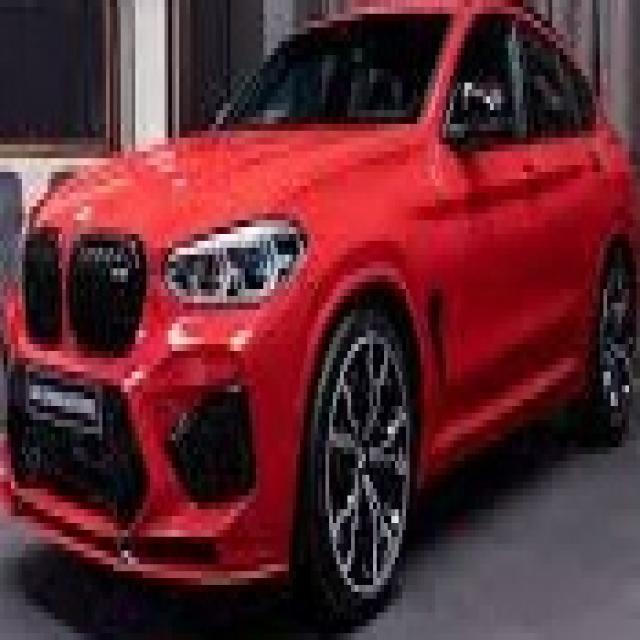red: (8, 0, 640, 607)
